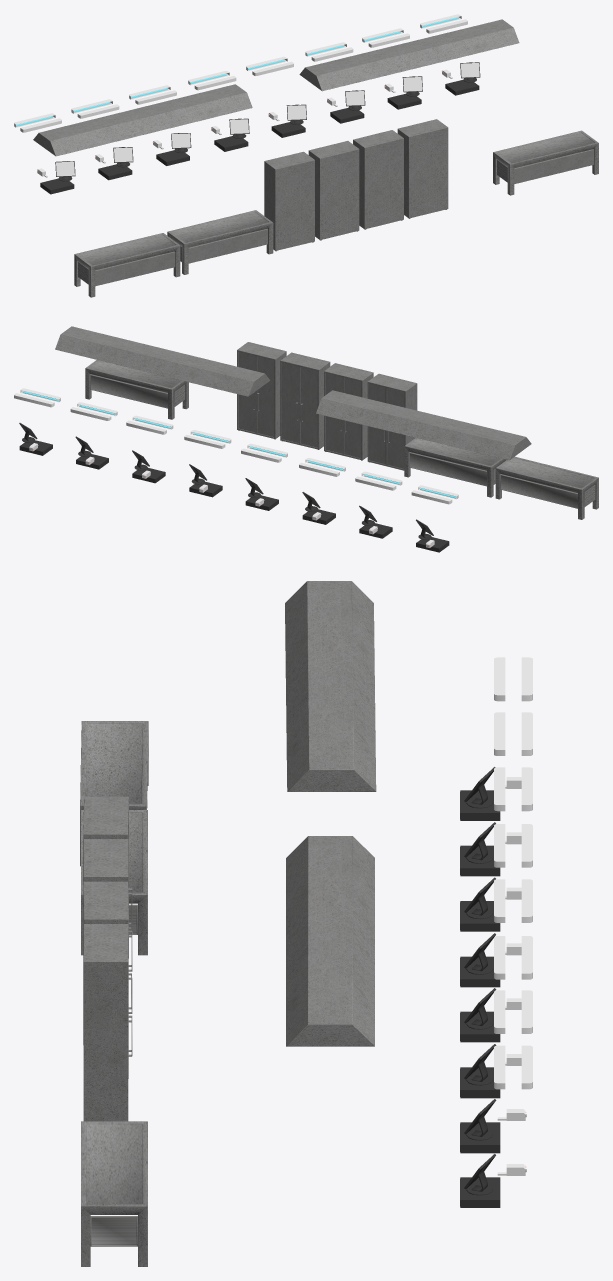
Rendered from BankArea.fbx.
3 views of the same model, one above another, from view 1: azimuth 30°, elevation 25°; view 2: azimuth 150°, elevation 25°; view 3: azimuth 270°, elevation 25° (orthographic). The views are drawn at different scales.
Parts seen in each view (by area): view 1: BankArea; view 2: BankArea; view 3: BankArea.
Boxes of the visible parts, box(x1,y1,x2,y2) form: BankArea: box(14, 14, 598, 297); BankArea: box(14, 326, 598, 552); BankArea: box(80, 581, 532, 1266).
Bounding box in the file's own units: 2571 × 535 × 1014.
